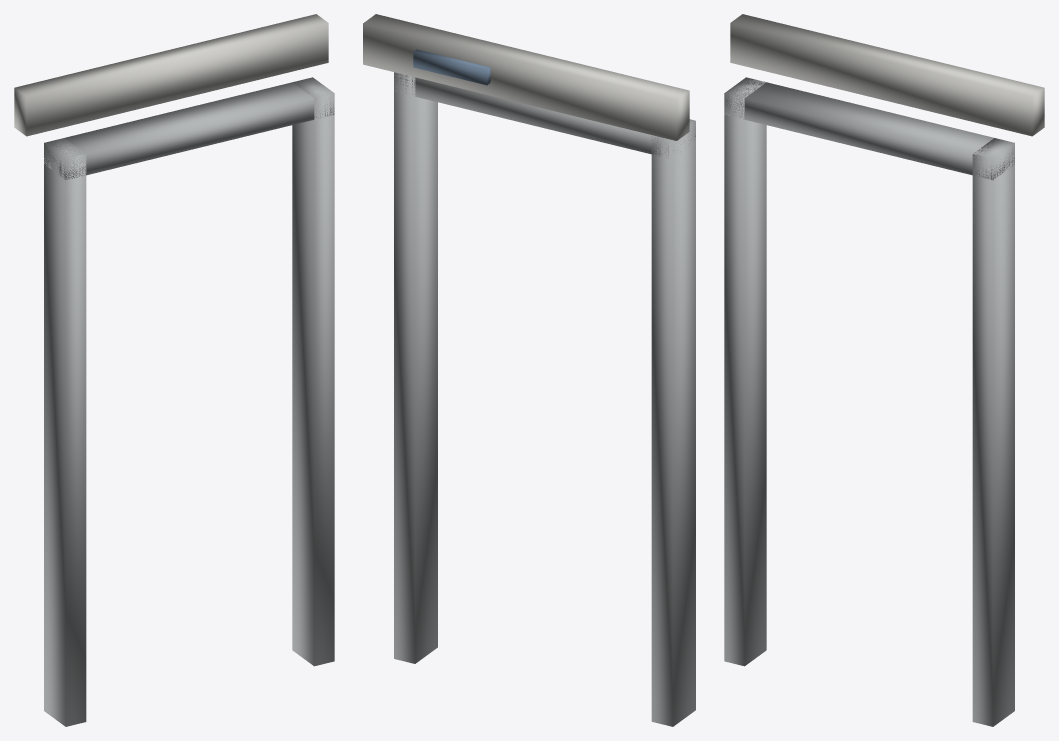
File: doorway_hospital_w96_h220_d16.glb
3 renders of one model, left to right at view 1: azimuth 30°, elevation 25°; view 2: azimuth 150°, elevation 25°; view 3: azimuth 330°, elevation 25°, orthographic. The views are drawn at different scales.
Parts seen in each view (by area): view 1: world; view 2: world; view 3: world.
Boxes of the visible parts, x1=… form: world: x1=14, y1=14, x2=334, y2=726; world: x1=363, y1=14, x2=695, y2=726; world: x1=724, y1=14, x2=1044, y2=726.
Size of the model in its own units: 1.27 by 2.49 by 0.28.
